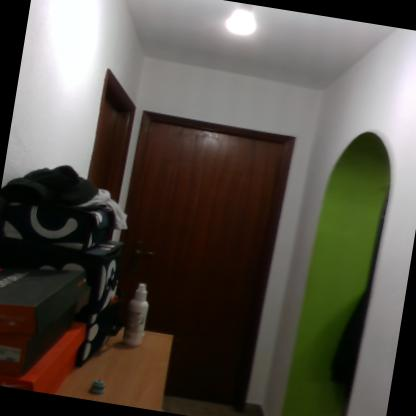closed: (94, 101, 306, 409)
